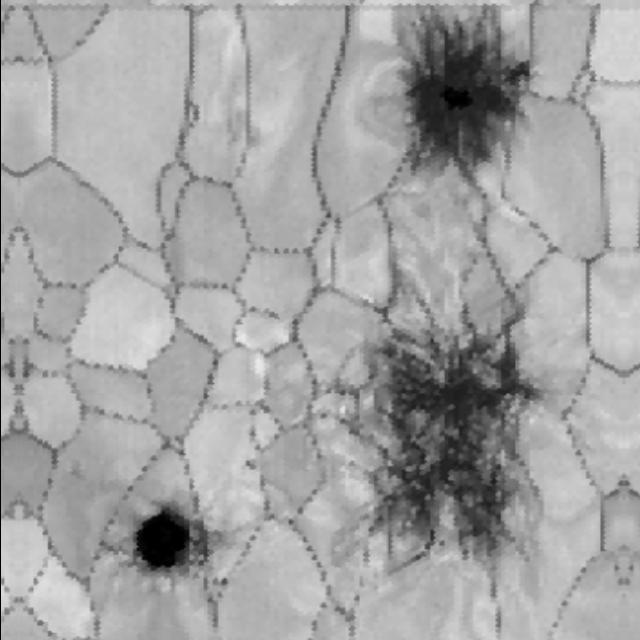good_void: (322, 291, 545, 582), (389, 0, 529, 185), (128, 499, 197, 580), (238, 457, 259, 474), (211, 573, 230, 590), (343, 455, 355, 471), (316, 408, 327, 422)
